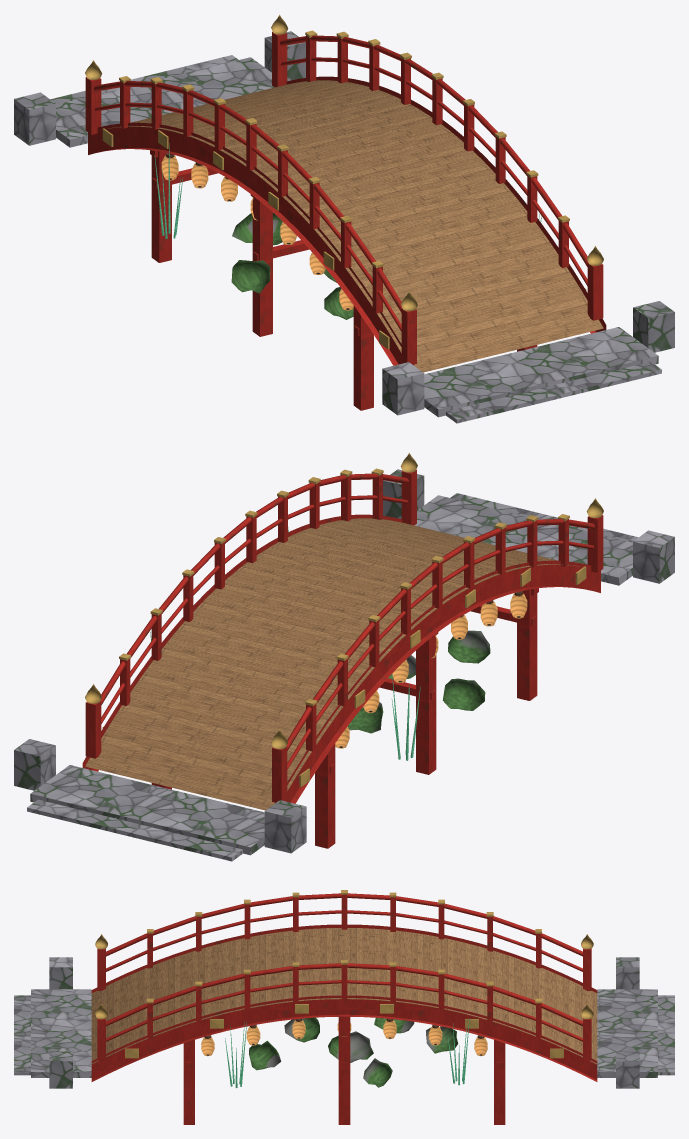
File: bridge_red.gltf
3 views of the same model, one above another, from view 1: azimuth 30°, elevation 25°; view 2: azimuth 150°, elevation 25°; view 3: azimuth 270°, elevation 25° (orthographic). The views are drawn at different scales.
Visible parts, largest first — view 1: Bridge, UnderBridge; view 2: Bridge, UnderBridge; view 3: Bridge, UnderBridge.
Part boxes in pixels (<box>): Bridge: <box>14,14,674,423</box>; UnderBridge: <box>154,142,541,319</box>; Bridge: <box>14,452,674,861</box>; UnderBridge: <box>150,527,527,760</box>; Bridge: <box>14,890,674,1124</box>; UnderBridge: <box>201,1017,487,1088</box>.
Size of the model in its own units: 7.3 by 5.41 by 19.6.
Materials: 9 (9 with a texture image).
